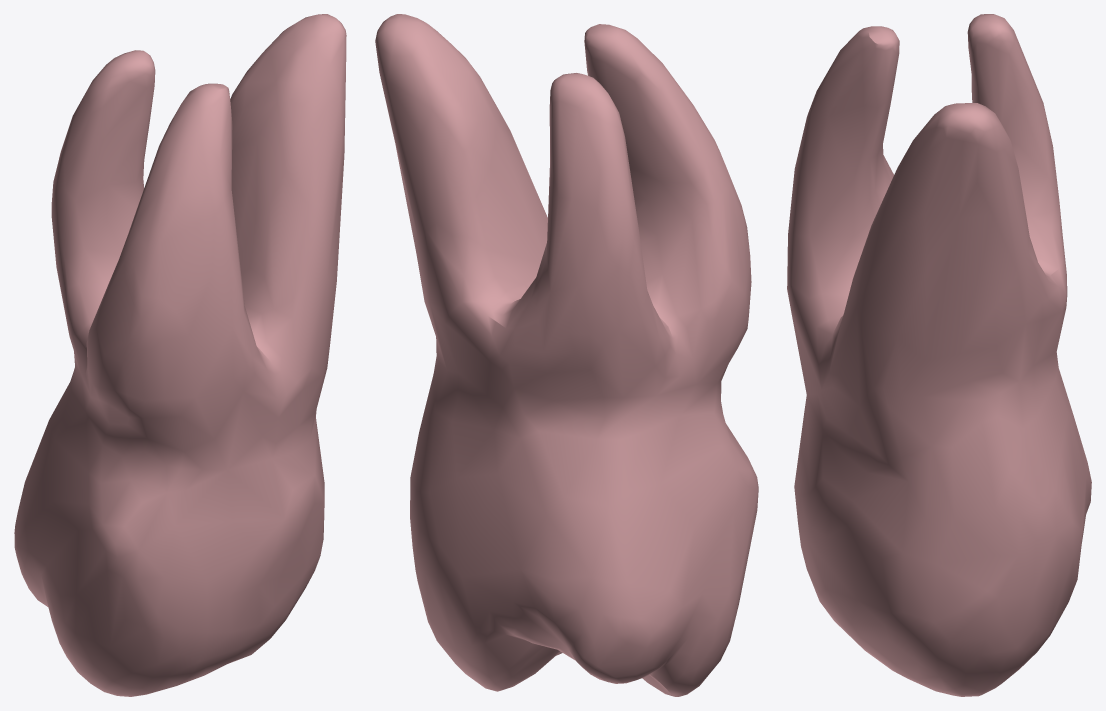
File: fma55697_fj1275.glb
3 renders of one model, left to right at view 1: azimuth 30°, elevation 25°; view 2: azimuth 150°, elevation 25°; view 3: azimuth 270°, elevation 25°, orthographic. The views are drawn at different scales.
Visible parts, largest first — view 1: FMA55697_FJ1275; view 2: FMA55697_FJ1275; view 3: FMA55697_FJ1275.
Boxes of the visible parts, bbox=[...] form: FMA55697_FJ1275: bbox=[14, 14, 346, 696]; FMA55697_FJ1275: bbox=[375, 14, 758, 696]; FMA55697_FJ1275: bbox=[787, 14, 1091, 696].
Size of the model in its own units: 0.0119 by 0.0227 by 0.0098.
